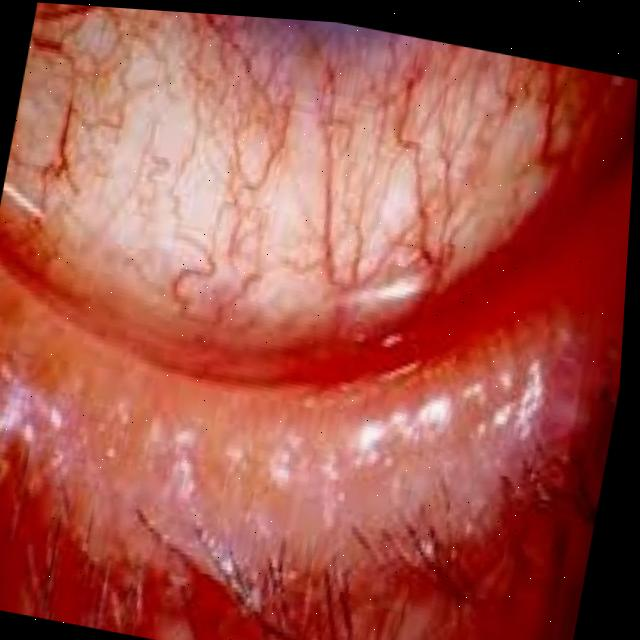Rosacea: (132, 611, 209, 640)
